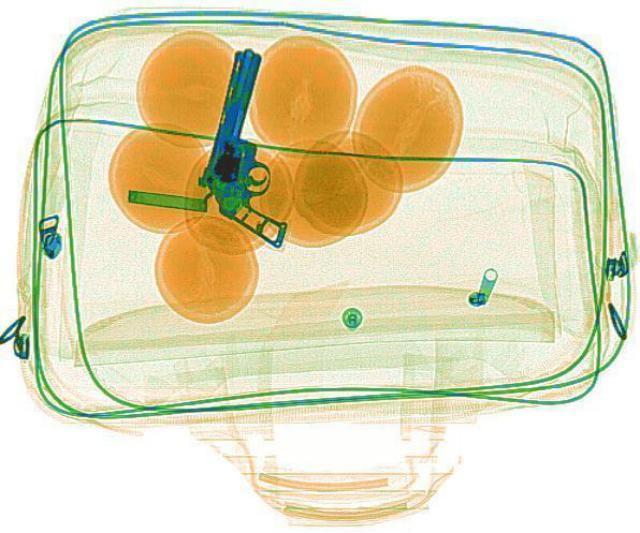Gun: (182, 44, 331, 245)
